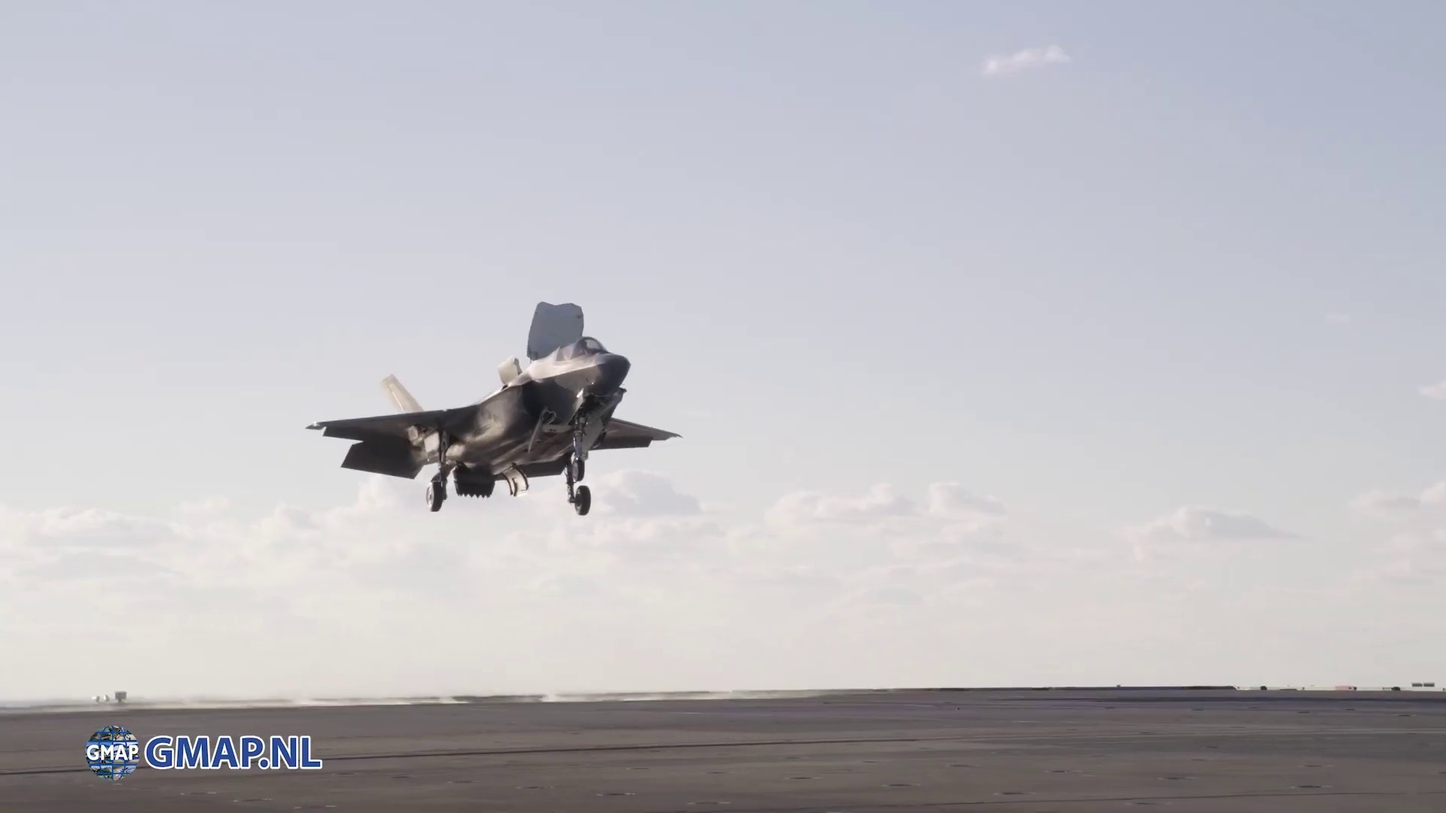F35: (297, 287, 687, 523)
